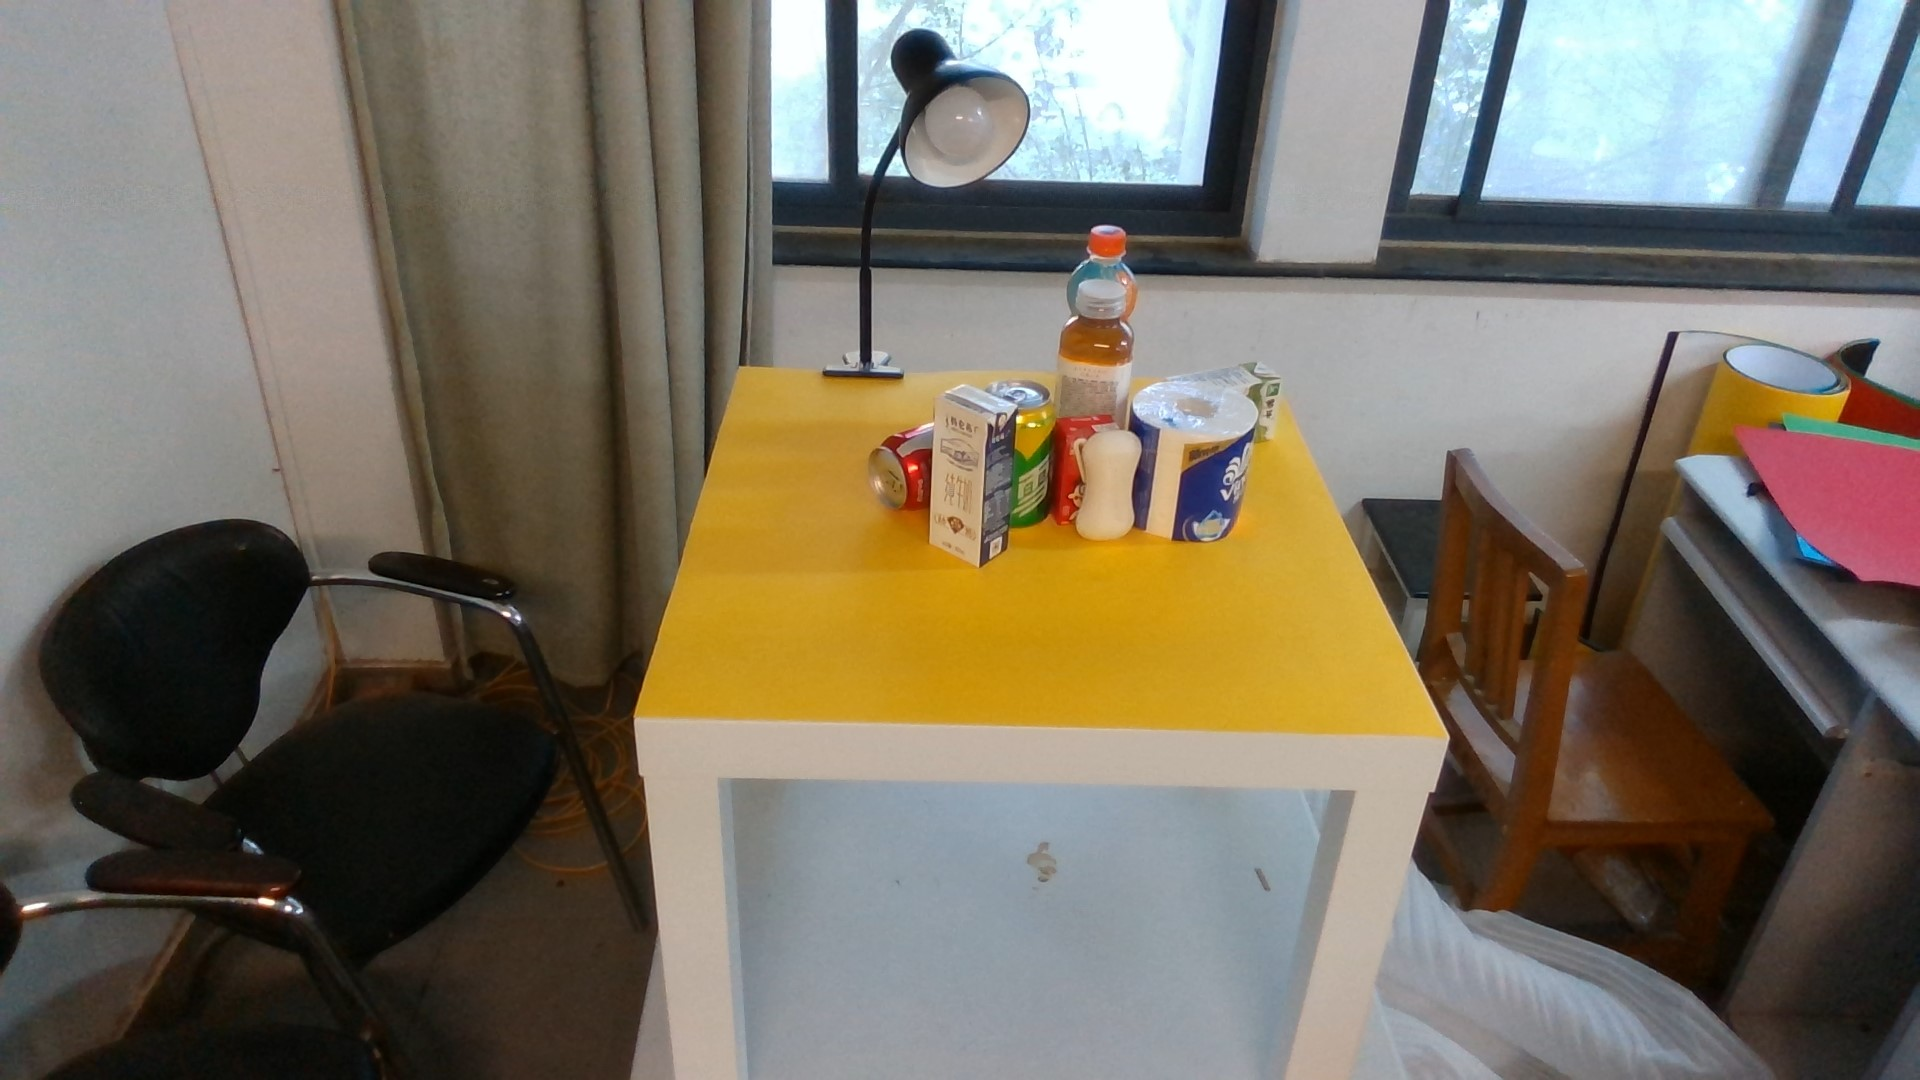BB003: (1075, 427, 1139, 545)
BB009: (1254, 355, 1284, 442)
BB010: (930, 385, 1013, 567)
BB012: (1052, 415, 1080, 527)
CA002: (1139, 381, 1258, 549)
ZC001: (1015, 381, 1058, 531)
ZC002: (869, 427, 928, 514)
ZC006: (1065, 225, 1133, 282)
ZC012: (1058, 280, 1130, 415)
